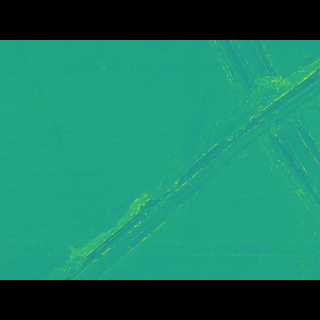Loch: (33, 77, 320, 251), (207, 69, 320, 205)
